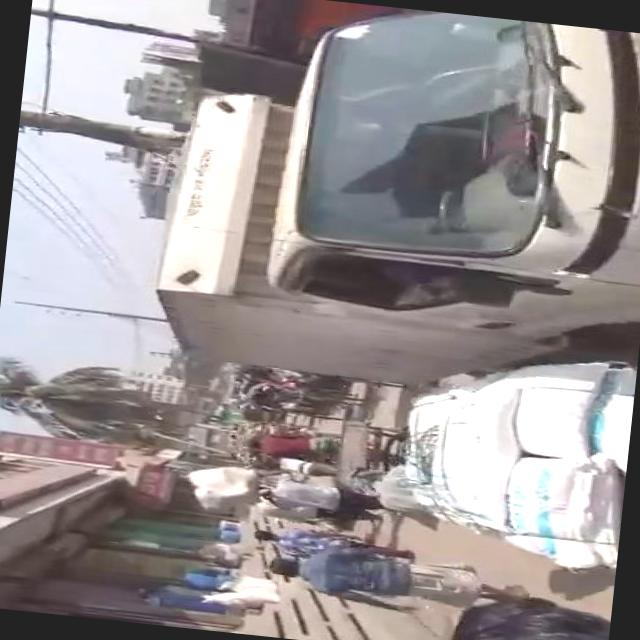motorcycle: (234, 408, 400, 494), (230, 376, 370, 424)
truck: (128, 0, 640, 415)
